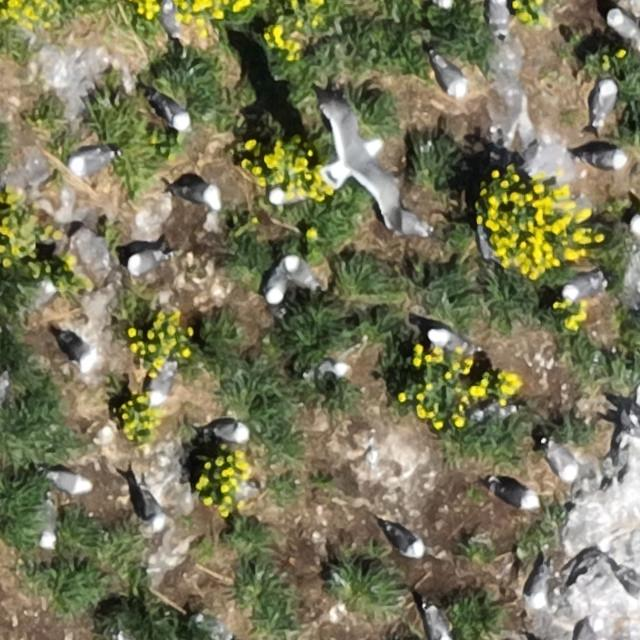F: (332, 116, 401, 216)
umineko: (51, 320, 104, 370), (524, 558, 554, 612), (25, 272, 61, 312), (435, 58, 467, 96), (25, 511, 57, 549), (548, 446, 578, 483), (389, 527, 424, 557), (495, 485, 537, 510), (157, 98, 189, 130), (176, 183, 220, 206), (592, 79, 616, 121), (69, 150, 111, 174), (286, 258, 318, 288), (150, 365, 174, 404), (49, 472, 89, 494), (563, 275, 601, 298), (584, 149, 625, 170), (608, 11, 636, 41), (126, 252, 162, 274), (429, 329, 465, 351), (266, 266, 286, 304), (491, 0, 512, 35), (145, 494, 166, 529), (427, 608, 449, 639), (161, 1, 179, 38), (212, 424, 247, 443), (621, 571, 640, 606), (314, 361, 348, 378), (478, 230, 493, 260), (429, 0, 453, 7)
